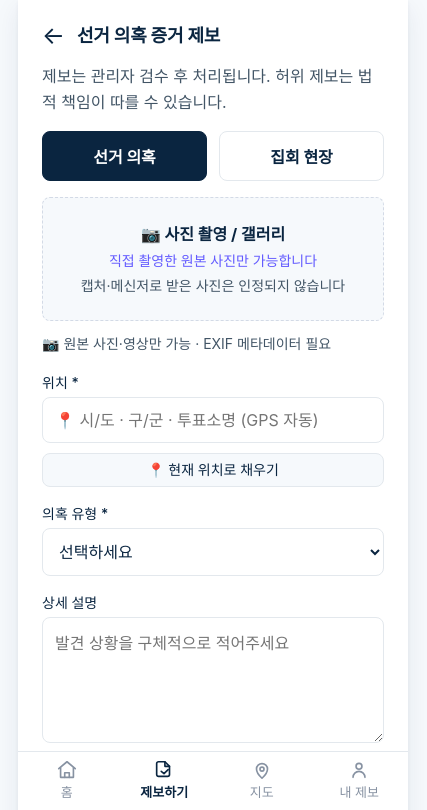
Scenario: ReportForm 접수번호 추적(0013) › 완료 화면에 접수번호를 강조 표시한다
Type "관찰 정황" into the text box labelled "상세 설명" at [213, 680], box left=42, top=617, right=384, bottom=743
(page scrolled)
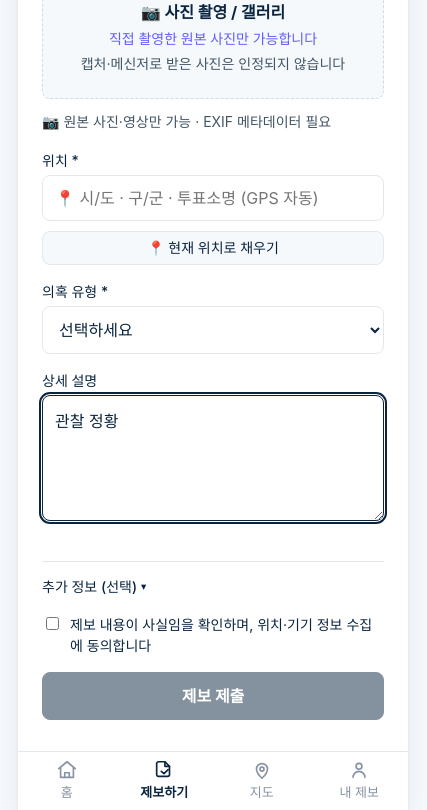
Click the checkbox labelled "제보 내용이 사실임을 확인하며, 위치·기기 정보 수집에 동의합니다" at [52, 624], box left=46, top=617, right=59, bottom=630
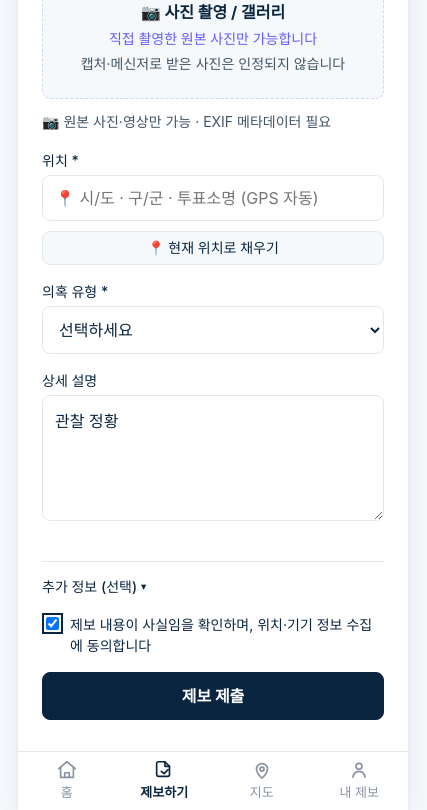
Click the button "제보 제출" at [213, 696], box left=42, top=672, right=384, bottom=720
(page scrolled)
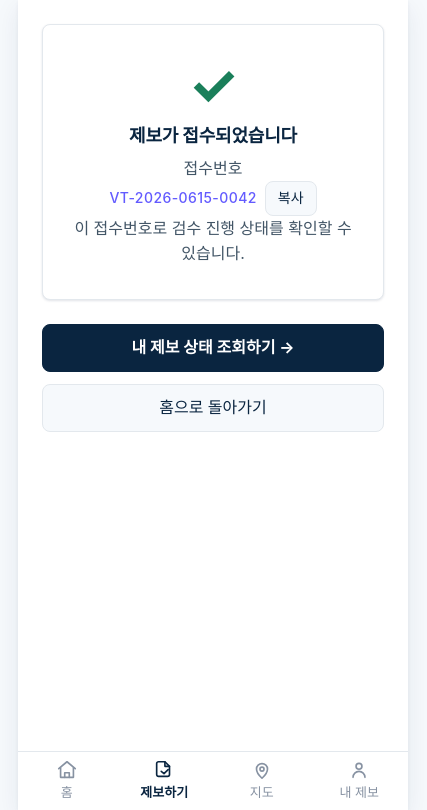
Expected: the heading "제보가 접수되었습니다" is shown, left=129, top=125, right=297, bottom=146
Expected: the text "VT-2026-0615-0042" is shown, left=109, top=187, right=257, bottom=210
